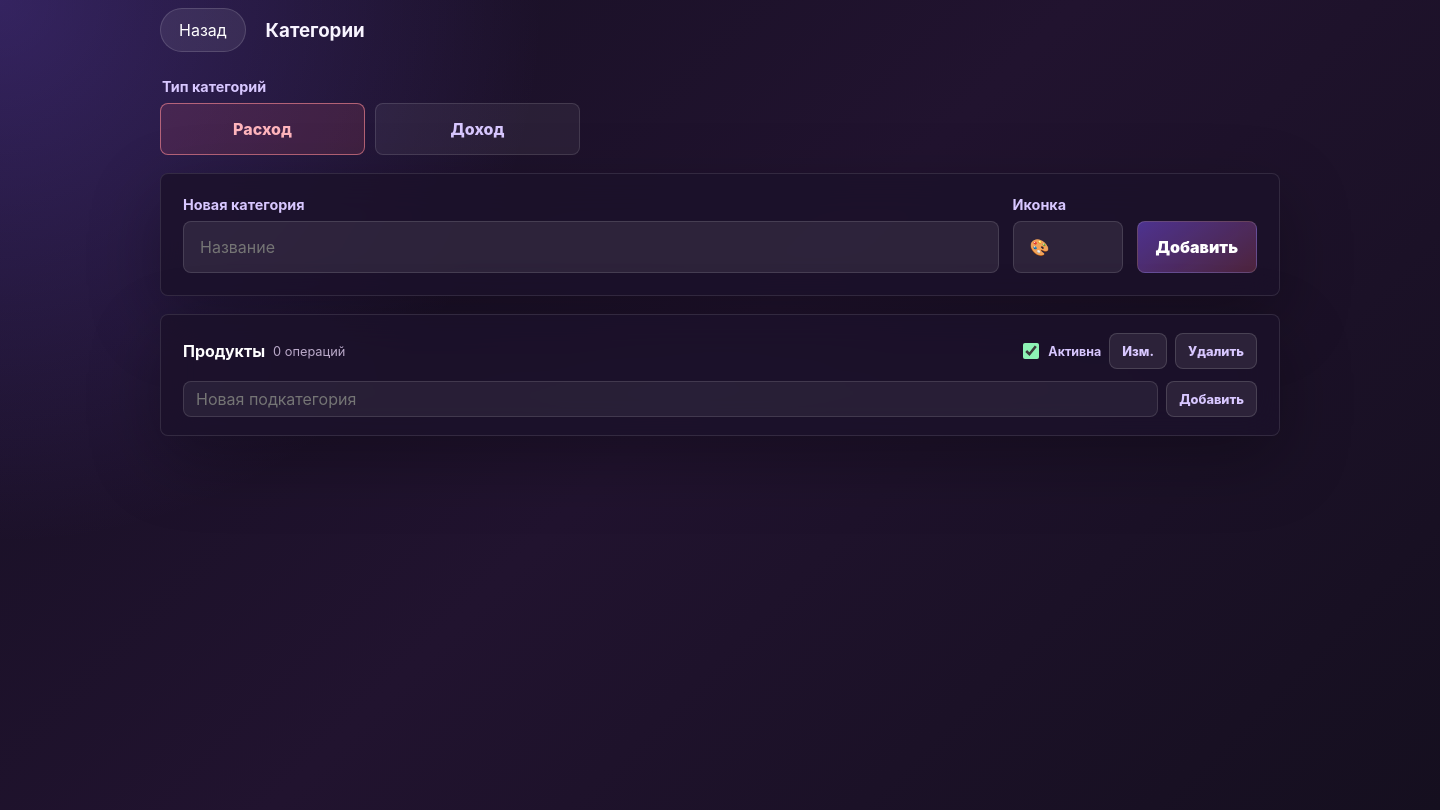
Test: CategoriesPage › adds a subcategory to a category
Type "Сладости" into the field with placeholder "Новая подкатегория". click: (671, 399)
box: [183,381,1158,417]
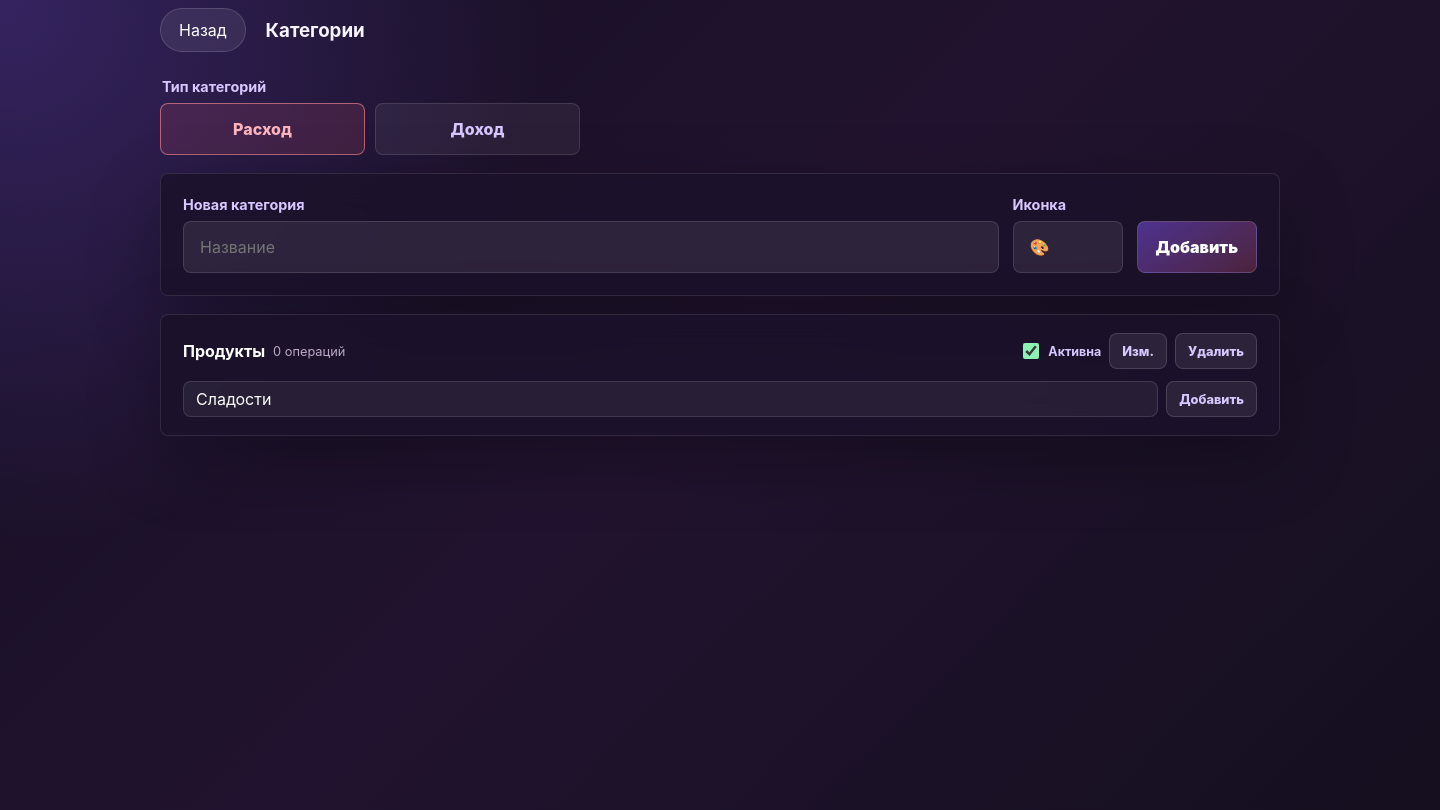
Submit the form with class "subcategory-create", box [183,381,1257,417]
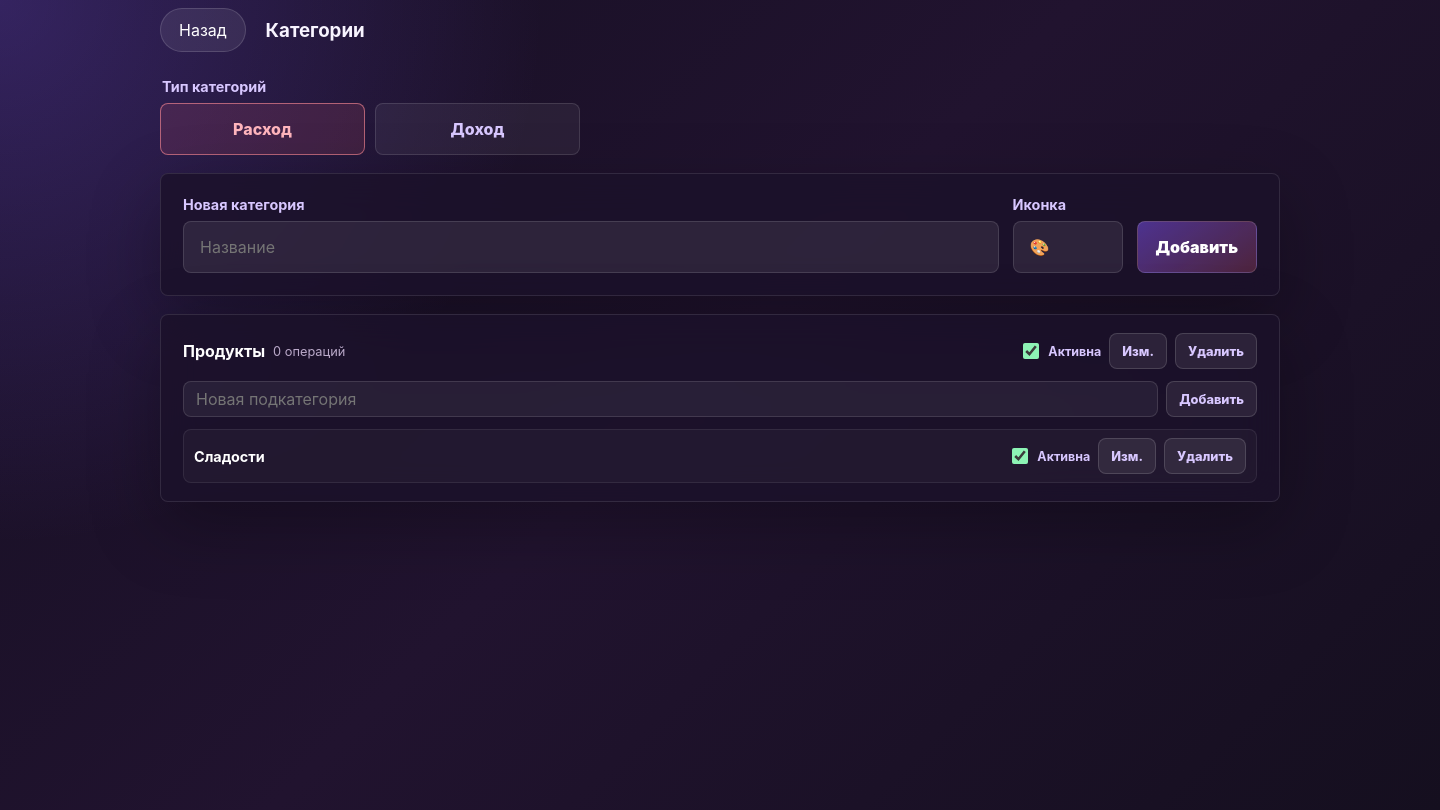
Now the text "Сладости" is shown, box [194,448,265,465]
